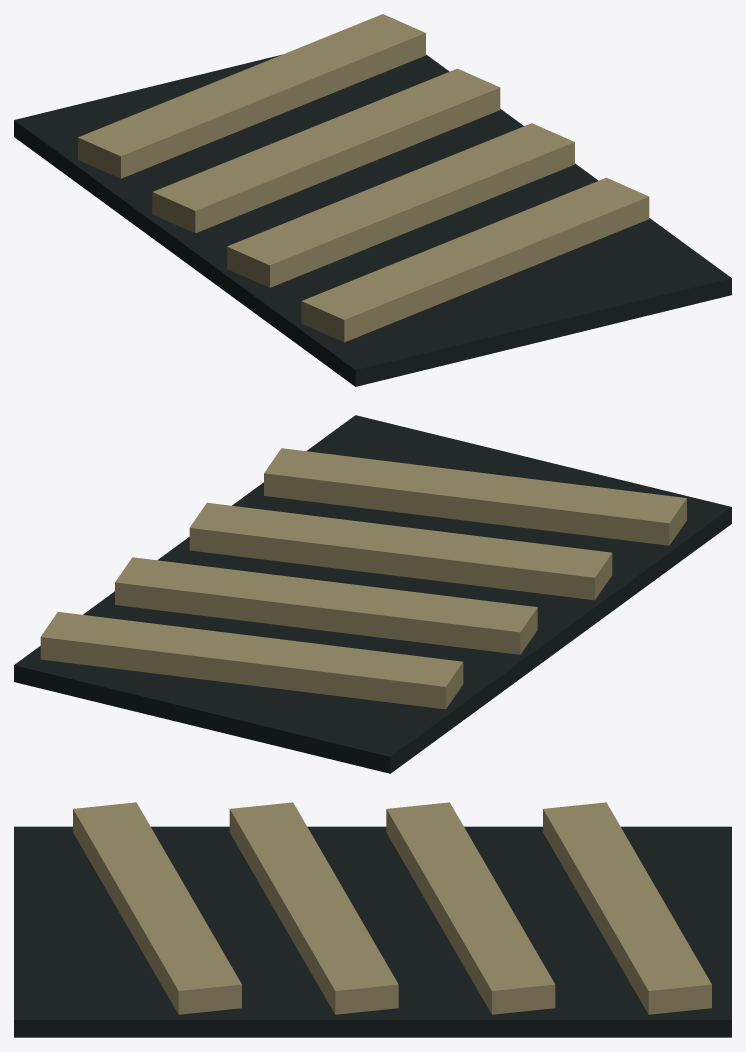
File: accent_hazard_stripe.glb
The picture shows the model from 3 angles, top to bottom: view 1: azimuth 30°, elevation 25°; view 2: azimuth 150°, elevation 25°; view 3: azimuth 270°, elevation 25°; orthographic projection. The views are drawn at different scales.
Parts seen in each view (by area): view 1: hazard base, hazard stripe 1, hazard stripe 3, hazard stripe 0, hazard stripe 2; view 2: hazard base, hazard stripe 0, hazard stripe 2, hazard stripe 1, hazard stripe 3; view 3: hazard base, hazard stripe 2, hazard stripe 1, hazard stripe 0, hazard stripe 3.
Boxes of the visible parts, x1,y1,x2,y2 form: hazard base: (14, 54, 731, 386); hazard stripe 1: (152, 68, 500, 233); hazard stripe 3: (301, 177, 649, 342); hazard stripe 0: (78, 14, 425, 178); hazard stripe 2: (227, 123, 574, 287); hazard base: (14, 415, 731, 773); hazard stripe 0: (40, 612, 463, 709); hazard stripe 2: (189, 502, 612, 600); hazard stripe 1: (115, 557, 537, 654); hazard stripe 3: (264, 448, 686, 545); hazard base: (14, 826, 731, 1037); hazard stripe 2: (229, 802, 398, 1014); hazard stripe 1: (386, 802, 555, 1014); hazard stripe 0: (543, 802, 711, 1014); hazard stripe 3: (73, 802, 241, 1014).
Bounding box in the file's own units: 0.07 × 0.0075 × 0.11.
